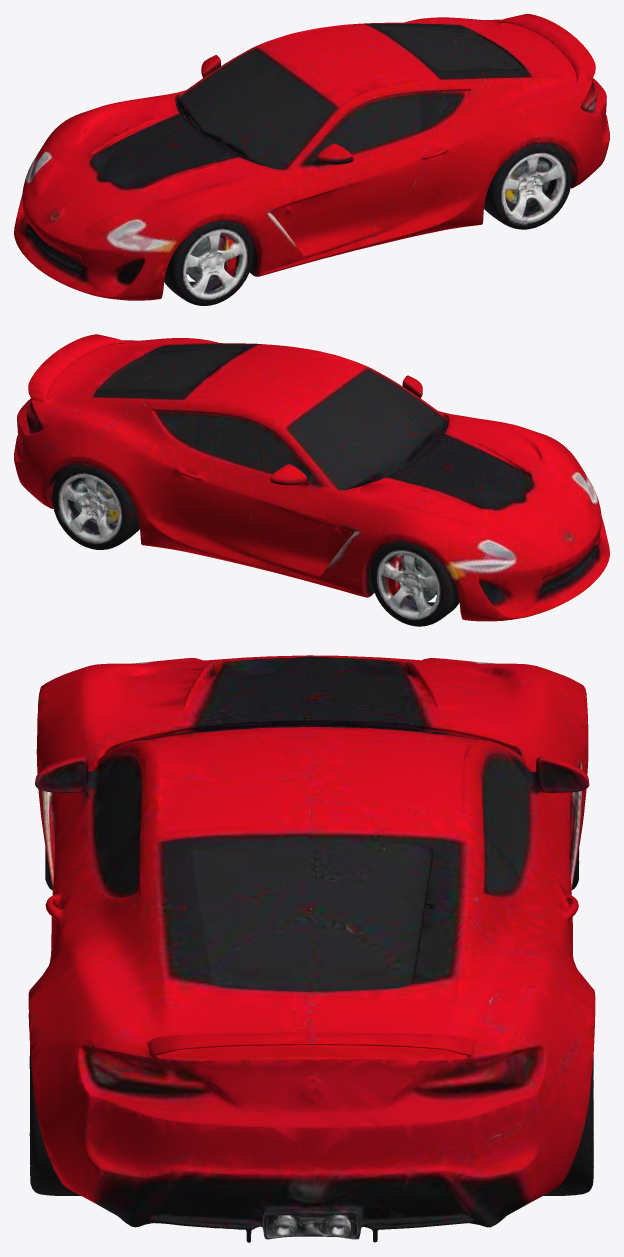
File: th_auto_flitzer.glb
The picture shows the model from 3 angles, top to bottom: view 1: azimuth 30°, elevation 25°; view 2: azimuth 150°, elevation 25°; view 3: azimuth 270°, elevation 25°; orthographic projection. The views are drawn at different scales.
Size of the model in its own units: 1.9 by 0.5205 by 0.8662.
Materials: 1 (1 with a texture image).
